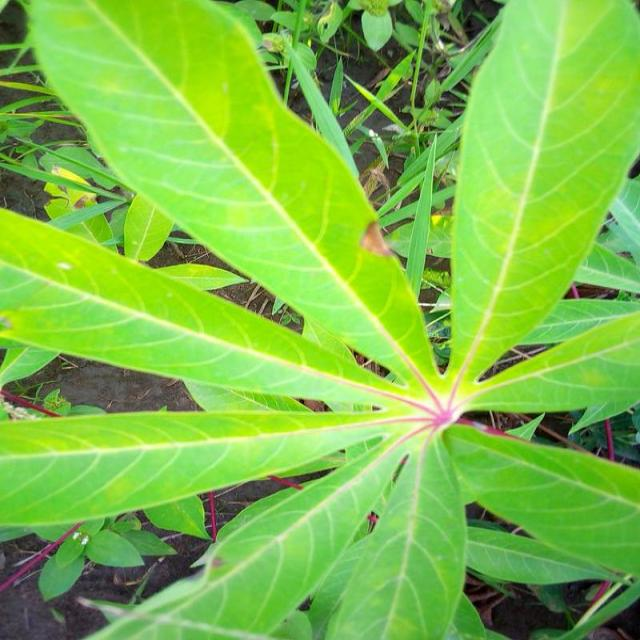cassava leaf: (2, 0, 640, 638), (24, 0, 442, 394), (448, 0, 640, 385)
